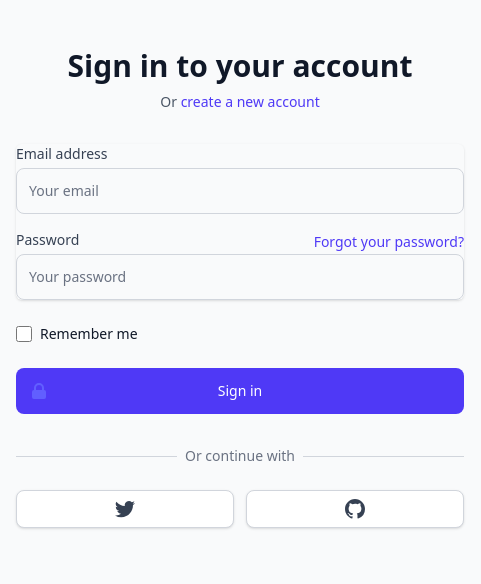
Scenario: SignIn Component - Unit Tests › shows error message if login fails
This screenshot has width=481, height=584.
In the field labelled "Email address": point(240, 191) [16,168,464,214], type "wrong@example.com"
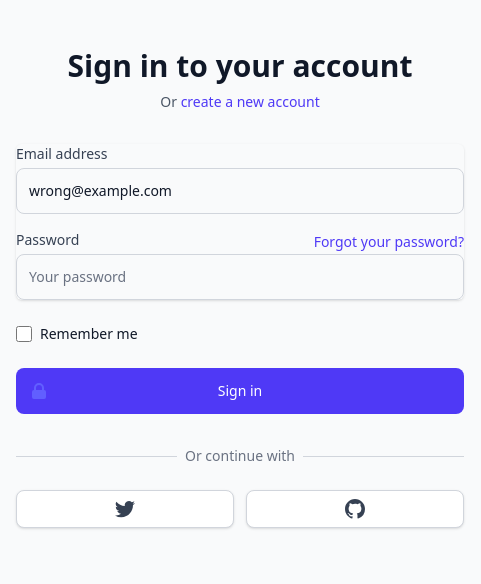
In the password field labelled "Password": point(240, 277) [16,254,464,300], type "wrongpassword"
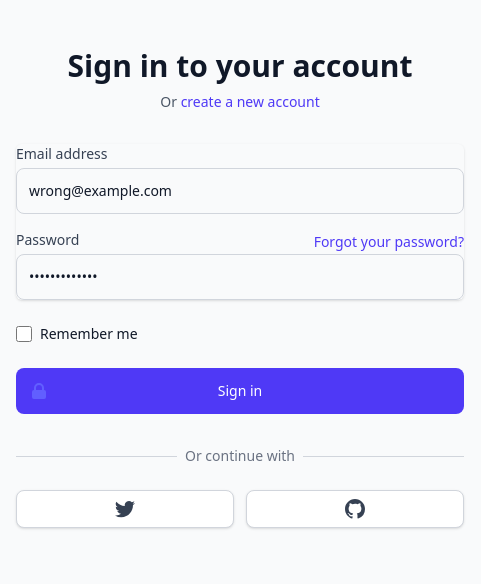
Click the button "Sign in": point(240, 391) [16,368,464,414]
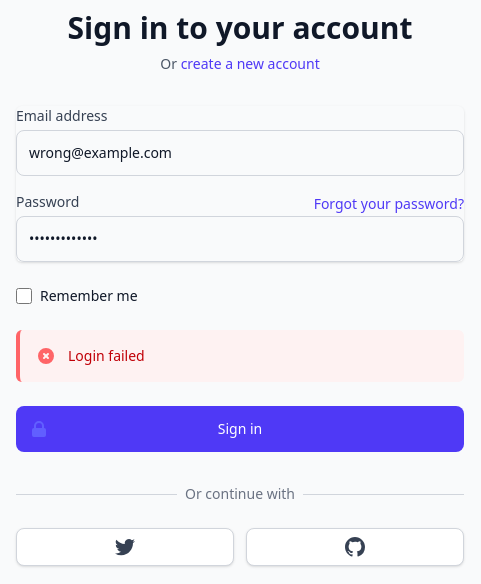
Now the text "Login failed" is shown, box [68,346,145,366]
